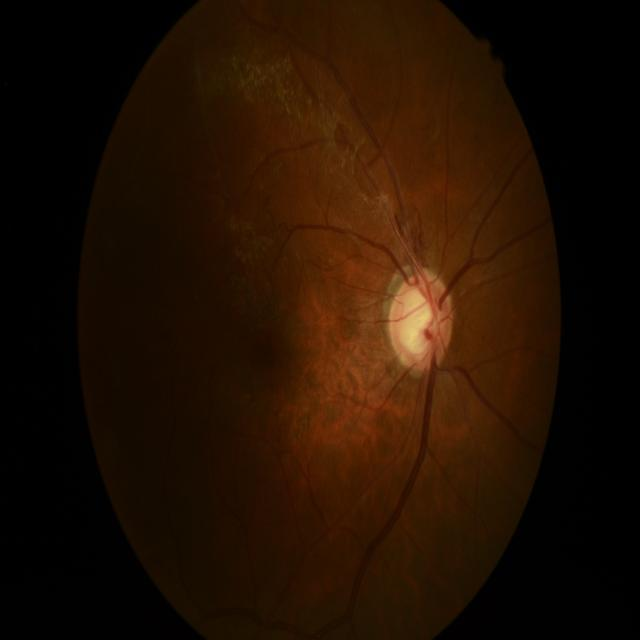cup: (400, 286, 440, 361)
disk: (390, 271, 453, 371)
